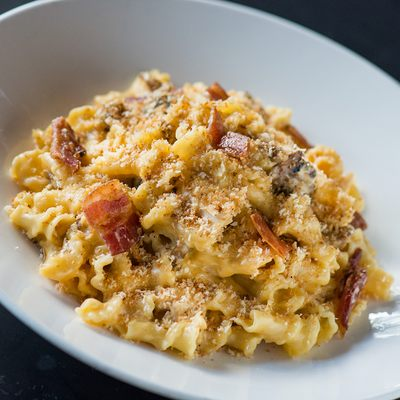sandwich: (3, 63, 395, 372)
